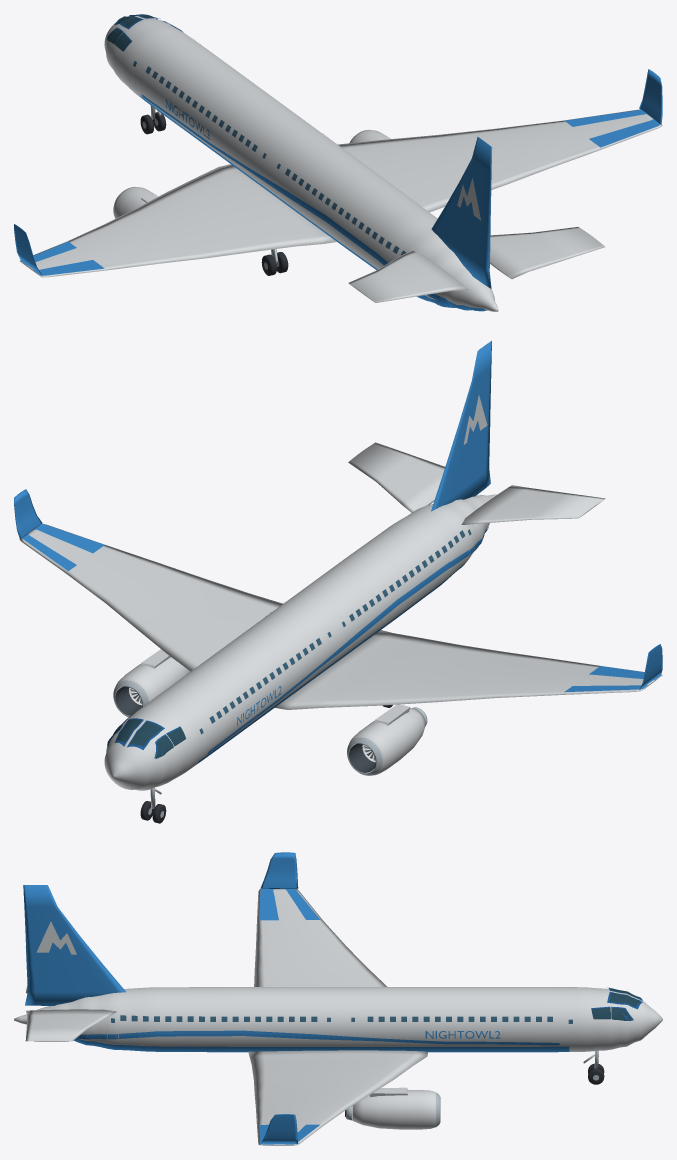
Rendered from private-jet.glb.
3 renders of one model, top to bottom at view 1: azimuth 30°, elevation 25°; view 2: azimuth 150°, elevation 25°; view 3: azimuth 270°, elevation 25°, orthographic. The views are drawn at different scales.
Parts seen in each view (by area): view 1: NIGHTOWL2_N2_PEARL_WHITE, Smooth pressure cabin and rounded nose, NIGHTOWL2_N2_PAINT_PRIMARY, NIGHTOWL2_N2_CABIN_GLASS, NIGHTOWL2_N2_TIRE, NIGHTOWL2_N2_COCKPIT_GLASS; view 2: NIGHTOWL2_N2_PEARL_WHITE, Smooth pressure cabin and rounded nose, NIGHTOWL2_N2_PAINT_PRIMARY, NIGHTOWL2_N2_COCKPIT_GLASS, NIGHTOWL2_N2_CABIN_GLASS, NIGHTOWL2_N2_BRUSHED_METAL, NIGHTOWL2_N2_DARK_METAL; view 3: Smooth pressure cabin and rounded nose, NIGHTOWL2_N2_PEARL_WHITE, NIGHTOWL2_N2_PAINT_PRIMARY, NIGHTOWL2_N2_CABIN_GLASS, NIGHTOWL2_N2_COCKPIT_GLASS.
Boxes of the visible parts, x1=… form: NIGHTOWL2_N2_PEARL_WHITE: x1=20, y1=109, x2=662, y2=302; Smooth pressure cabin and rounded nose: x1=104, y1=16, x2=498, y2=311; NIGHTOWL2_N2_PAINT_PRIMARY: x1=14, y1=69, x2=662, y2=308; NIGHTOWL2_N2_CABIN_GLASS: x1=133, y1=61, x2=406, y2=255; NIGHTOWL2_N2_TIRE: x1=140, y1=112, x2=288, y2=275; NIGHTOWL2_N2_COCKPIT_GLASS: x1=107, y1=14, x2=183, y2=51; NIGHTOWL2_N2_PEARL_WHITE: x1=19, y1=395, x2=662, y2=775; Smooth pressure cabin and rounded nose: x1=104, y1=494, x2=496, y2=790; NIGHTOWL2_N2_PAINT_PRIMARY: x1=14, y1=341, x2=662, y2=754; NIGHTOWL2_N2_COCKPIT_GLASS: x1=107, y1=716, x2=185, y2=758; NIGHTOWL2_N2_CABIN_GLASS: x1=199, y1=529, x2=471, y2=734; NIGHTOWL2_N2_BRUSHED_METAL: x1=113, y1=680, x2=427, y2=817; NIGHTOWL2_N2_DARK_METAL: x1=115, y1=686, x2=376, y2=772; Smooth pressure cabin and rounded nose: x1=14, y1=987, x2=662, y2=1052; NIGHTOWL2_N2_PEARL_WHITE: x1=25, y1=889, x2=435, y2=1145; NIGHTOWL2_N2_PAINT_PRIMARY: x1=23, y1=852, x2=559, y2=1144; NIGHTOWL2_N2_CABIN_GLASS: x1=111, y1=1015, x2=572, y2=1023; NIGHTOWL2_N2_COCKPIT_GLASS: x1=591, y1=987, x2=640, y2=1020.
Size of the model in its own units: 35.84 by 12.55 by 37.56.
